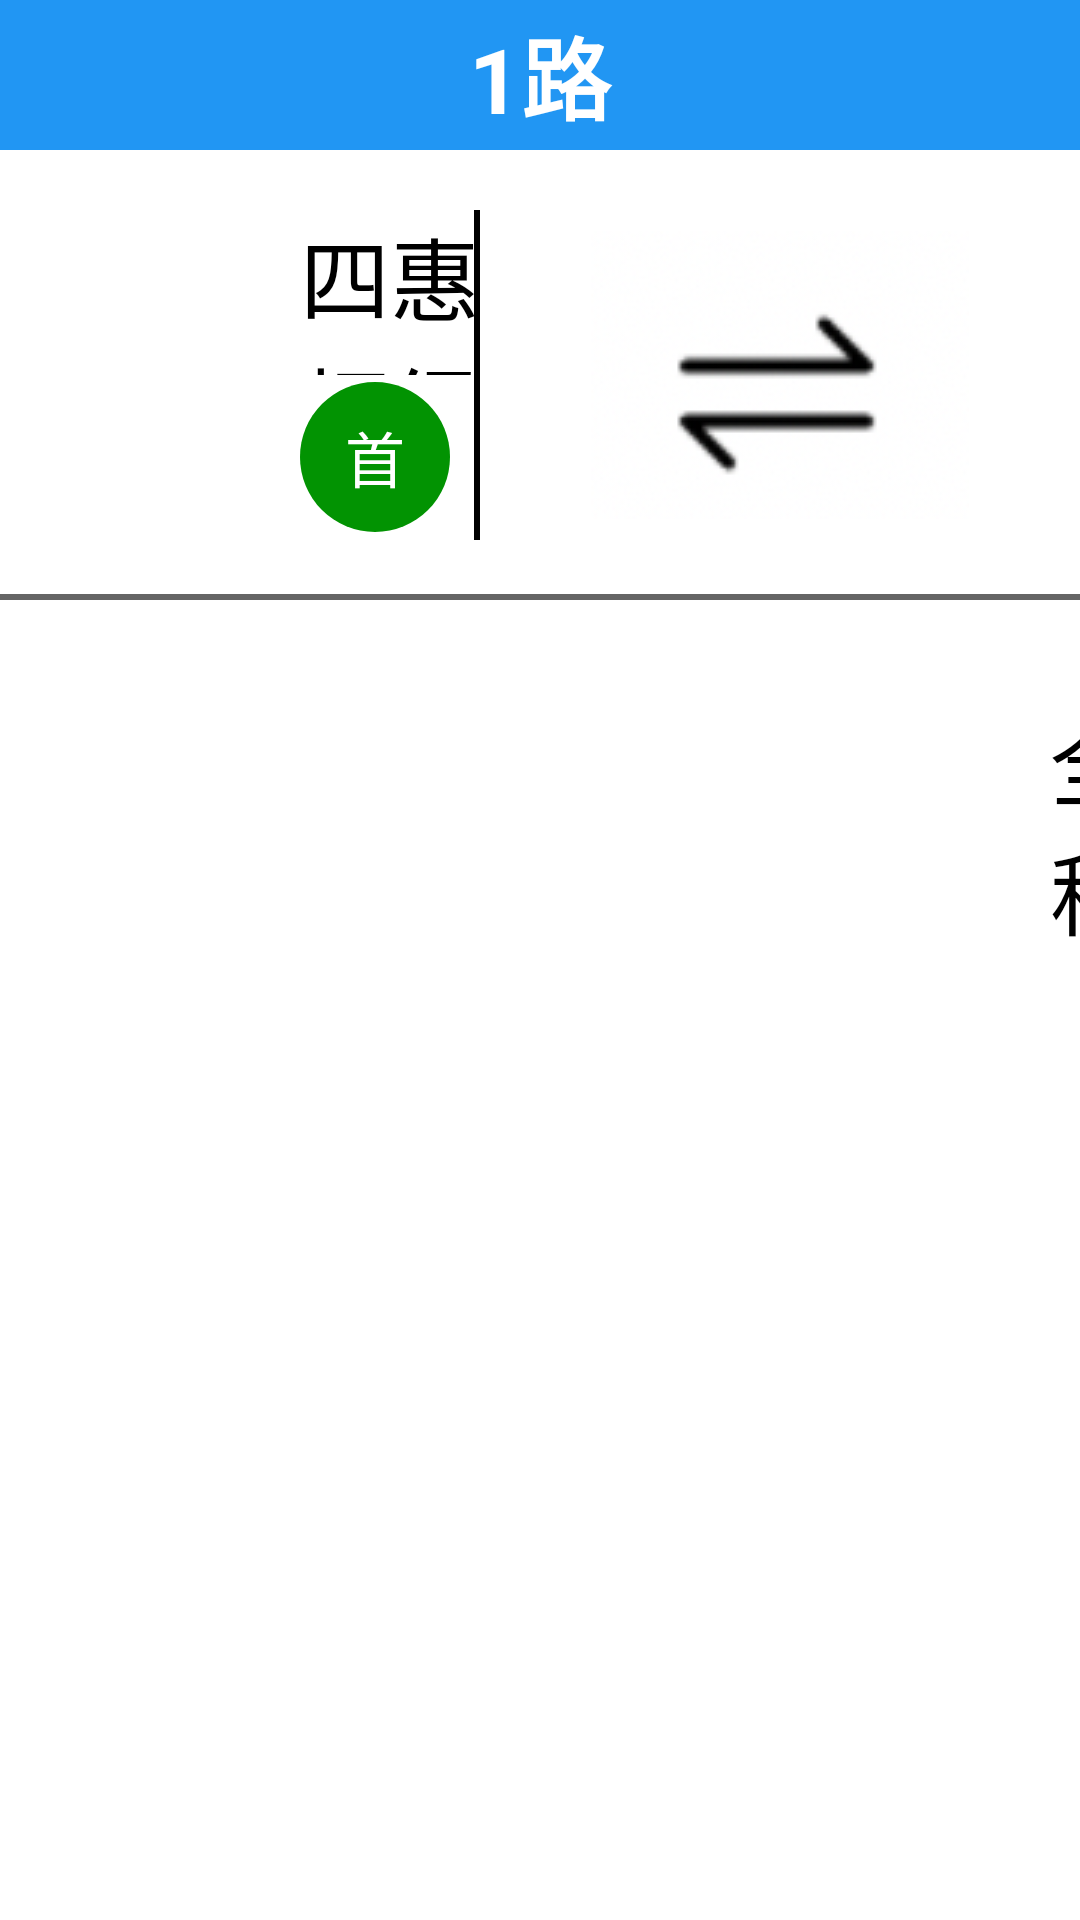

Named icons in this screenshot (1080x1920) and their bounding boxes, (x1, y1, x2, y2):
shuangjiantou: (677, 314, 876, 473)
